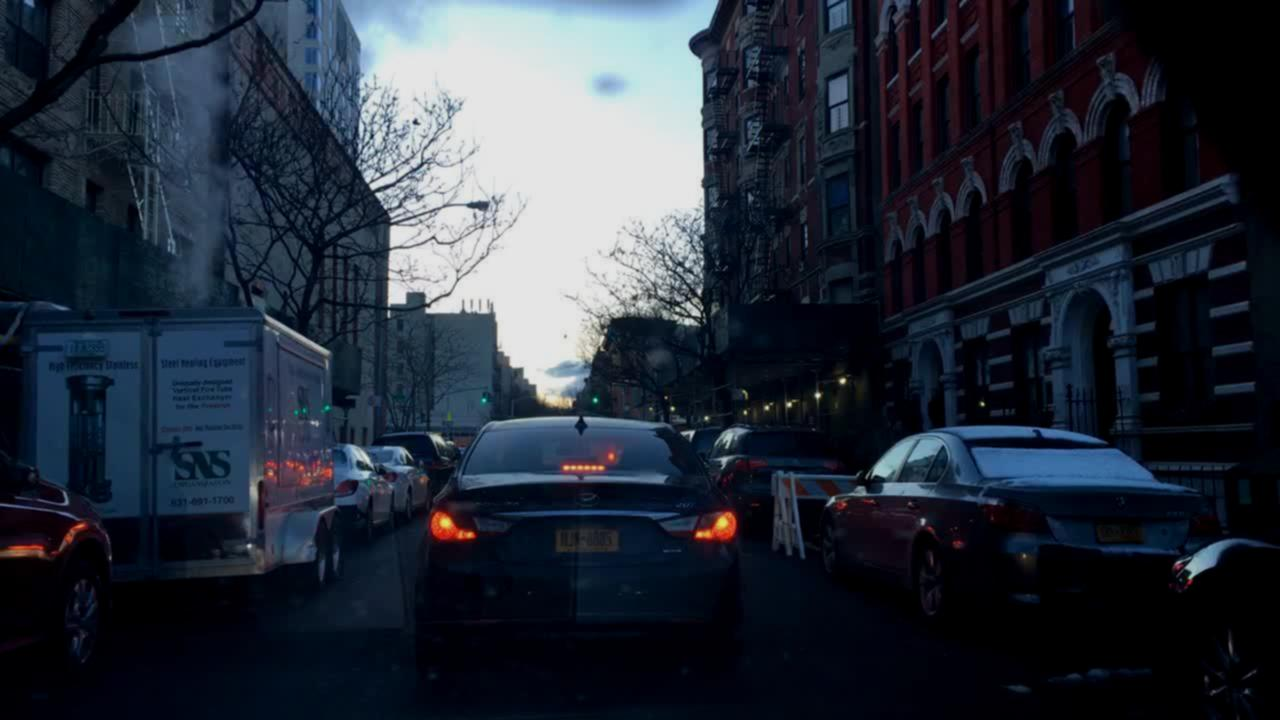Hyundai: (570, 483, 611, 515)
bmw: (1115, 492, 1129, 512)
